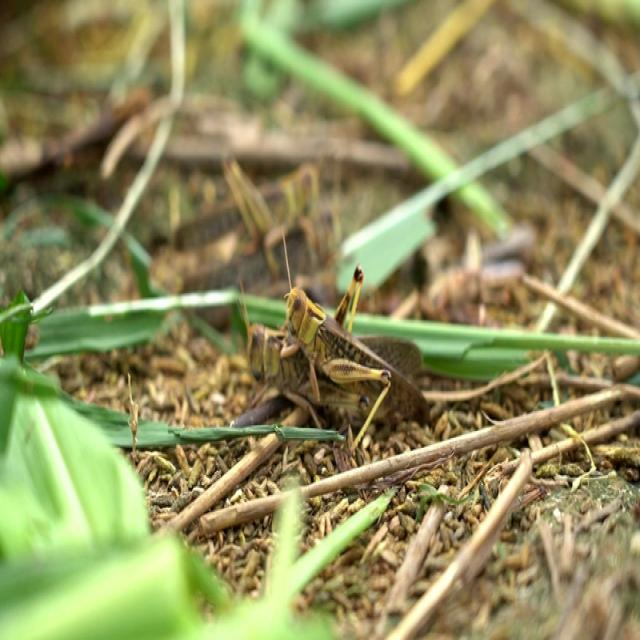ZhaMeng: (283, 278, 437, 413)
